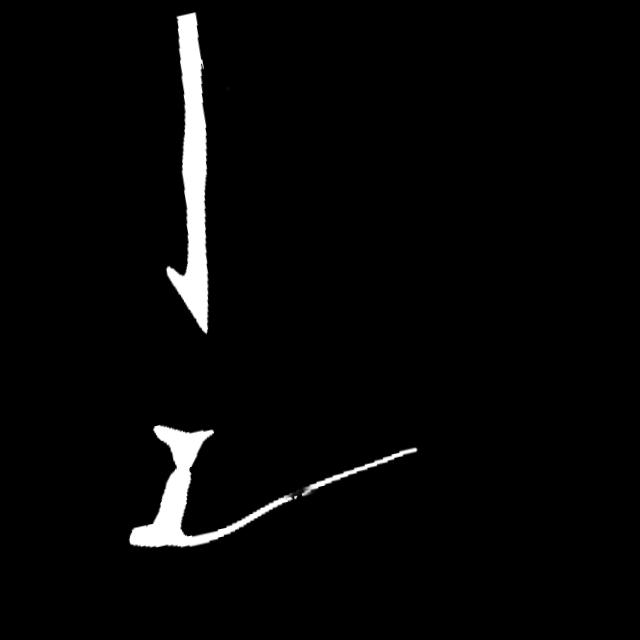inf: (282, 482, 321, 512)
